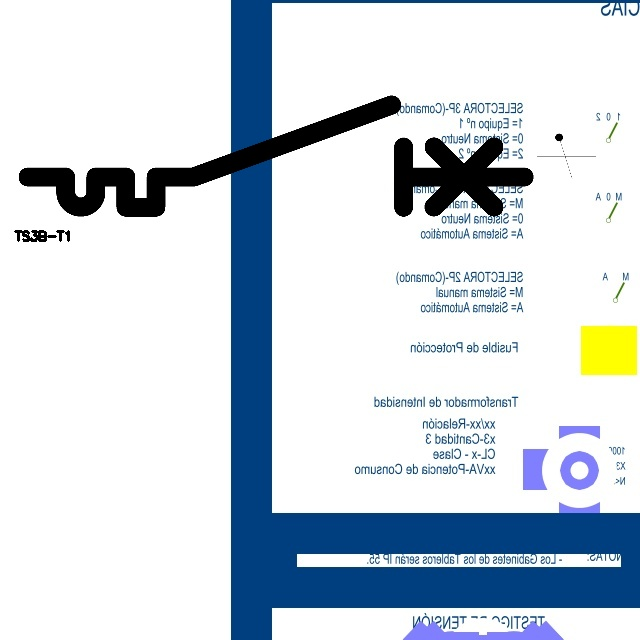interruptor_termomagnetico: (15, 92, 537, 220)
